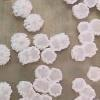white: (9, 32, 31, 53), (17, 46, 40, 65), (24, 14, 45, 34), (50, 32, 70, 52), (12, 0, 33, 19), (31, 32, 50, 50), (41, 47, 59, 66), (72, 2, 90, 20), (70, 44, 86, 62), (76, 84, 96, 98), (0, 44, 11, 68), (76, 31, 96, 44), (33, 79, 50, 94), (86, 65, 100, 83), (83, 42, 98, 58), (16, 81, 34, 94), (71, 78, 86, 93), (48, 82, 63, 97), (76, 20, 92, 34), (49, 67, 63, 83), (35, 65, 49, 80), (89, 19, 100, 35), (0, 82, 12, 96), (83, 0, 97, 8), (21, 93, 34, 100), (40, 93, 53, 100), (1, 93, 13, 100), (63, 0, 79, 5), (74, 96, 94, 100), (95, 0, 100, 12), (33, 94, 42, 100)
